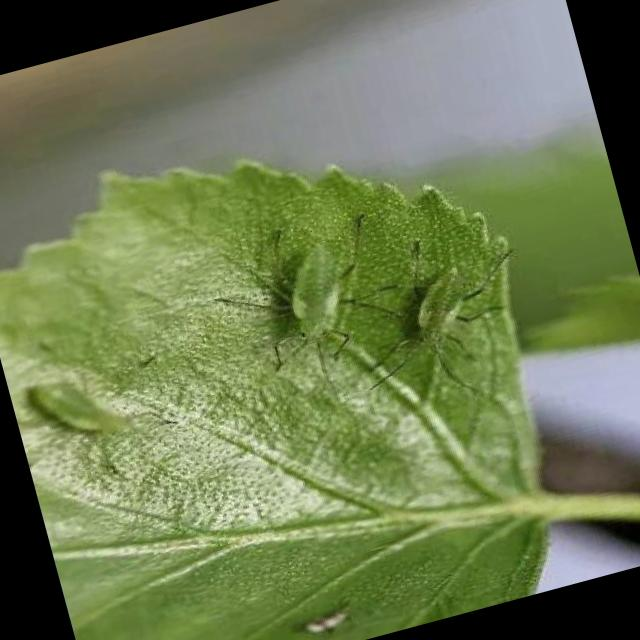aphid: (10, 350, 166, 480), (243, 236, 377, 368), (372, 259, 507, 383)
